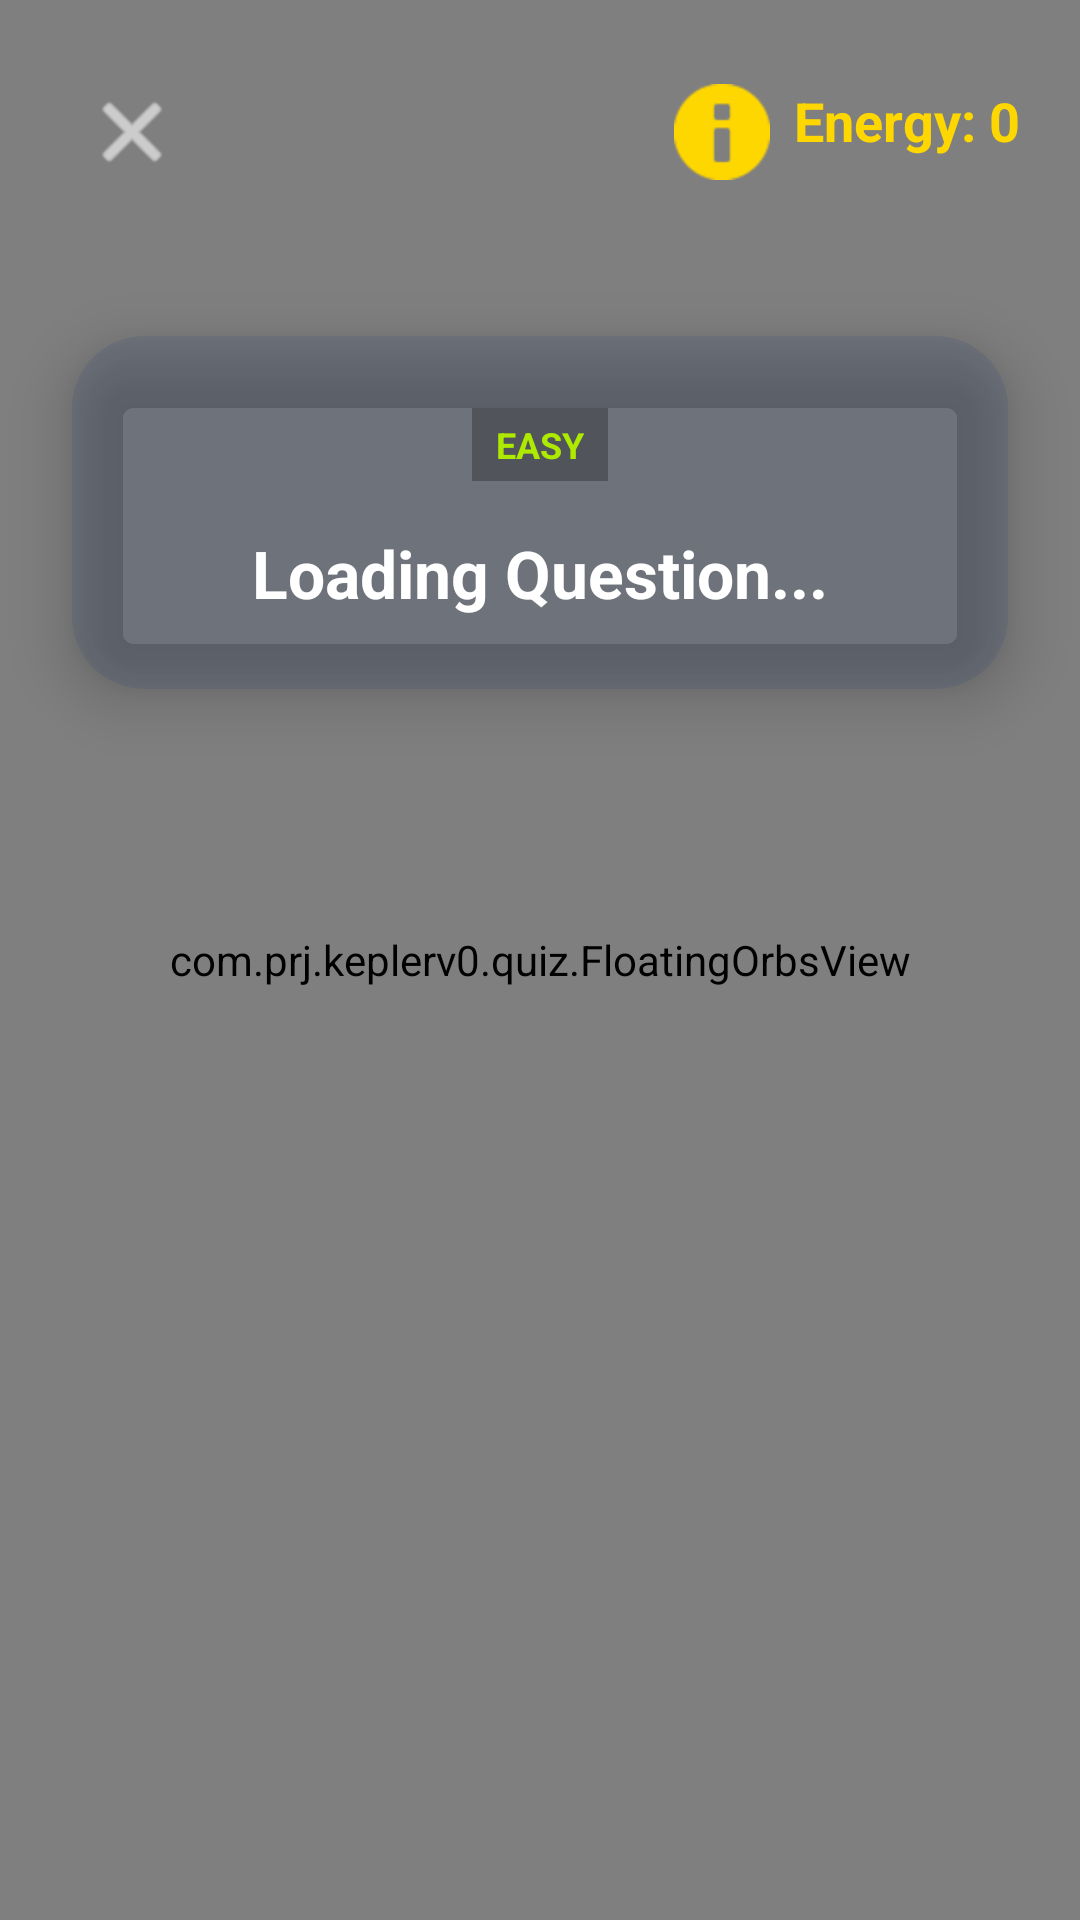

Icon click points for this 1080w x 1920h phone screenshot, format (x=x, y=y):
close clear cancel: (x=132, y=132)
